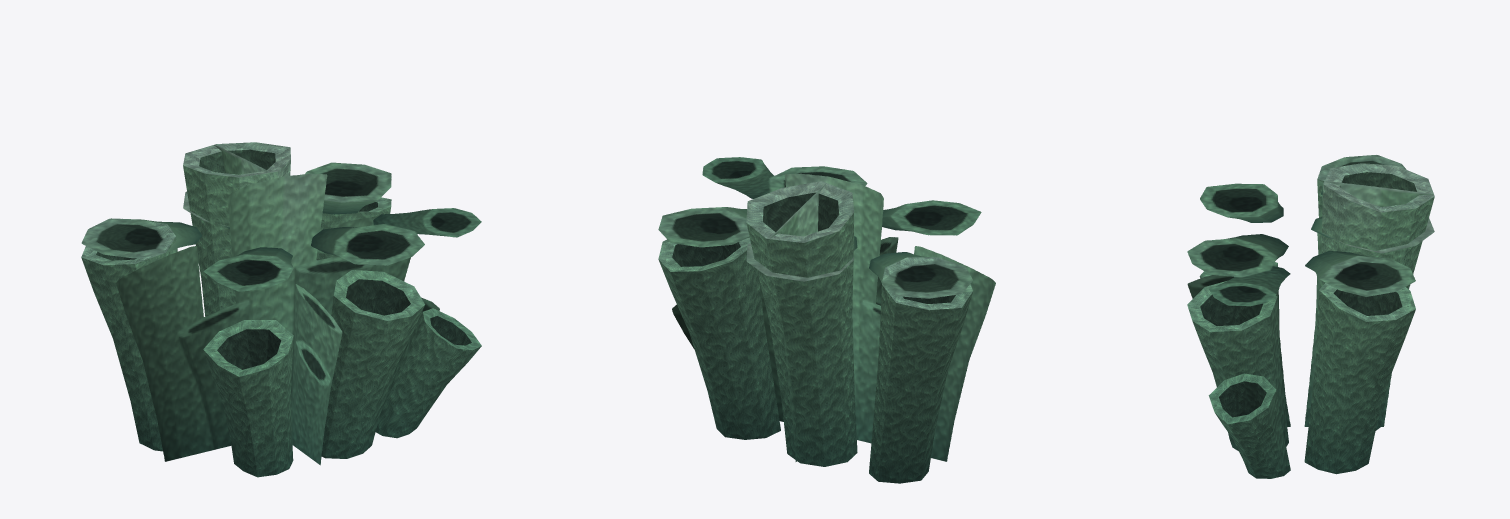
File: Coral-04-Trombetas-de-Jade.glb
The picture shows the model from 3 angles, left to right: view 1: azimuth 30°, elevation 25°; view 2: azimuth 150°, elevation 25°; view 3: azimuth 270°, elevation 25°; orthographic projection. The views are drawn at different scales.
Parts seen in each view (by area): view 1: Coral-04-Trombetas-de-Jade impostor, Colonia; view 2: Colonia, Coral-04-Trombetas-de-Jade impostor; view 3: Colonia, Coral-04-Trombetas-de-Jade impostor.
Part boxes in pixels (bbox=[...]): Coral-04-Trombetas-de-Jade impostor: bbox=[81, 145, 481, 465]; Colonia: bbox=[81, 142, 481, 477]; Colonia: bbox=[658, 181, 973, 483]; Coral-04-Trombetas-de-Jade impostor: bbox=[658, 157, 995, 461]; Colonia: bbox=[1187, 163, 1434, 478]; Coral-04-Trombetas-de-Jade impostor: bbox=[1187, 155, 1434, 426].
Size of what is drawn, in the model's own units: 1.15 by 1.15 by 1.15.
2 materials, 2 textured.
